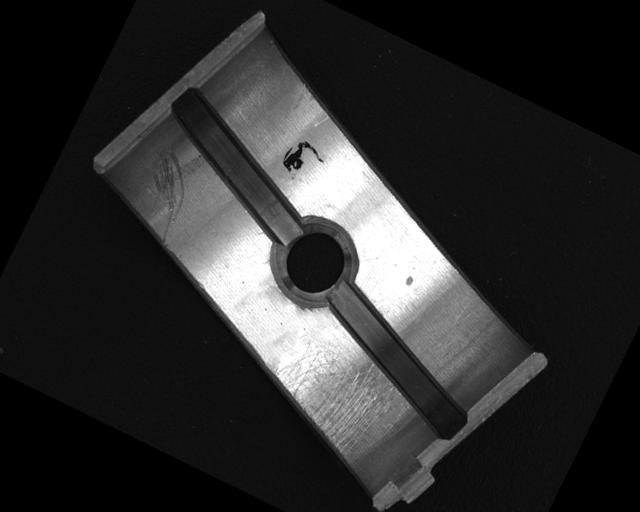blot: (277, 134, 331, 185)
bruise: (402, 273, 416, 288)
gap: (136, 80, 336, 248), (297, 278, 498, 445)
hole: (264, 209, 367, 312)
nick: (124, 144, 205, 246)
scratch: (250, 324, 422, 475)
